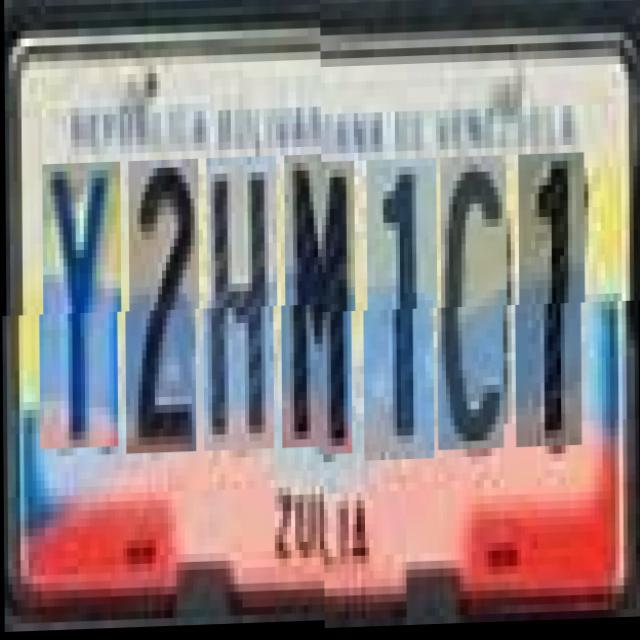1: (367, 162, 438, 464), (518, 157, 585, 451)
2: (128, 168, 200, 463)
C: (440, 160, 508, 453)
H: (206, 166, 278, 460)
M: (284, 163, 356, 458)
Y: (42, 170, 122, 457)
